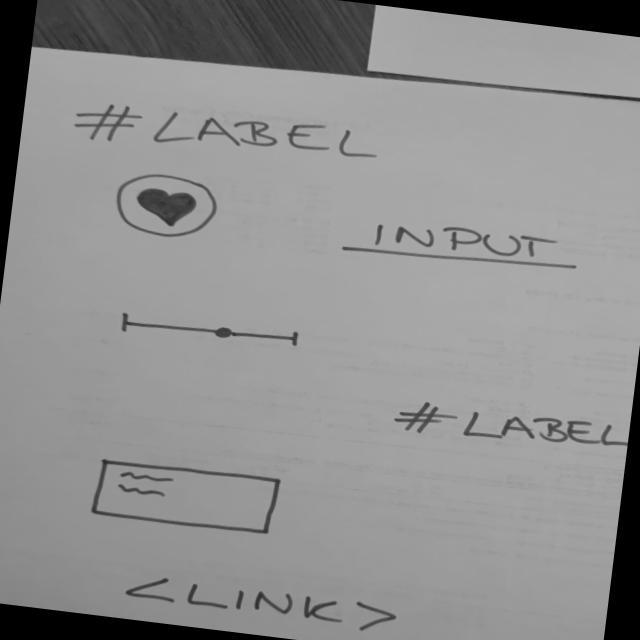icon-button: (110, 167, 224, 244)
input: (336, 206, 590, 282)
label: (65, 90, 386, 178), (387, 391, 630, 464)
link: (119, 567, 402, 639)
slider: (114, 306, 308, 355)
textarea: (86, 451, 286, 538)
